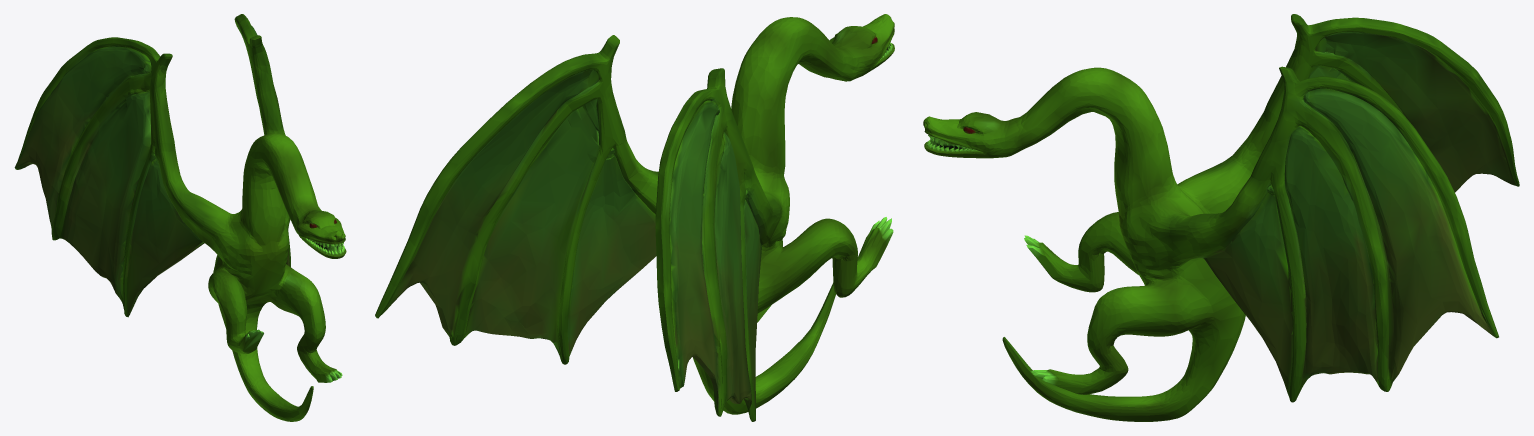
File: Wyvern.gltf
3 renders of one model, left to right at view 1: azimuth 30°, elevation 25°; view 2: azimuth 150°, elevation 25°; view 3: azimuth 270°, elevation 25°, orthographic. The views are drawn at different scales.
Visible parts, largest first — view 1: Sphere; view 2: Sphere; view 3: Sphere.
Boxes of the visible parts, x1,y1,x2,y2 form: Sphere: [14, 14, 346, 421]; Sphere: [375, 14, 894, 421]; Sphere: [923, 14, 1519, 421].
Bounding box in the file's own units: 19.88 × 24.44 × 34.32.
